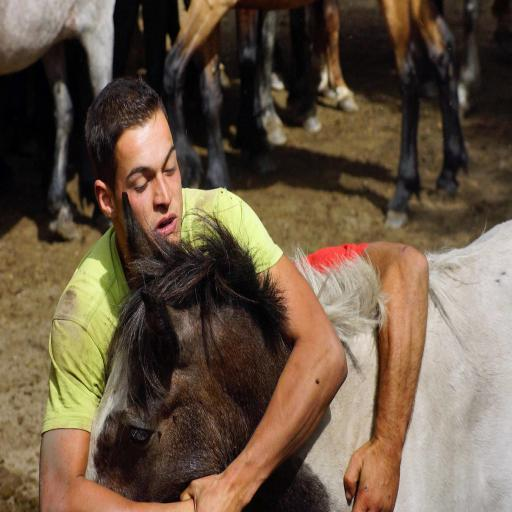Horse: (82, 188, 512, 512), (0, 0, 512, 231)
